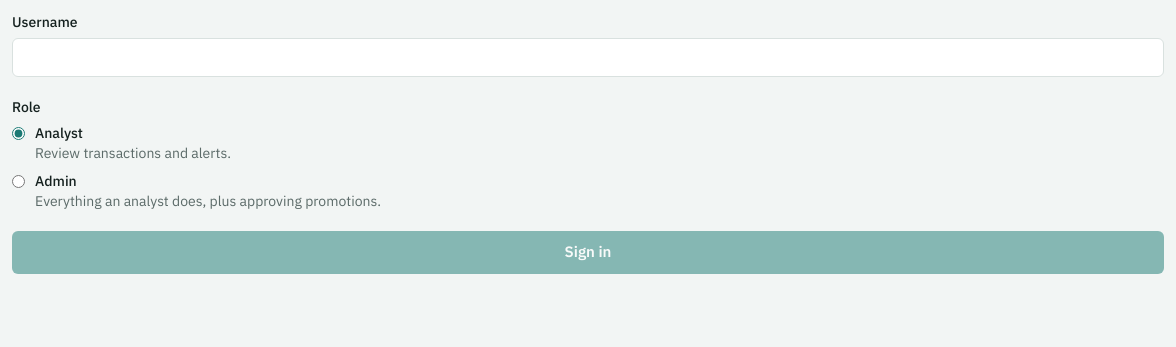
Test case: LoginForm › explains when the dev endpoint is disabled
Type "ana" into the field labelled "Username". click: (588, 58)
box: [12,38,1164,77]
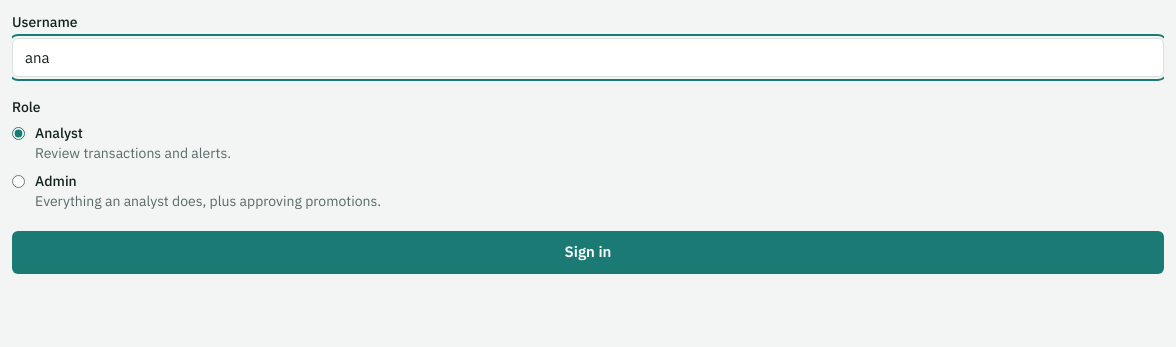
Click the button "Sign in". click: click(588, 253)
box: [12,231,1164,274]
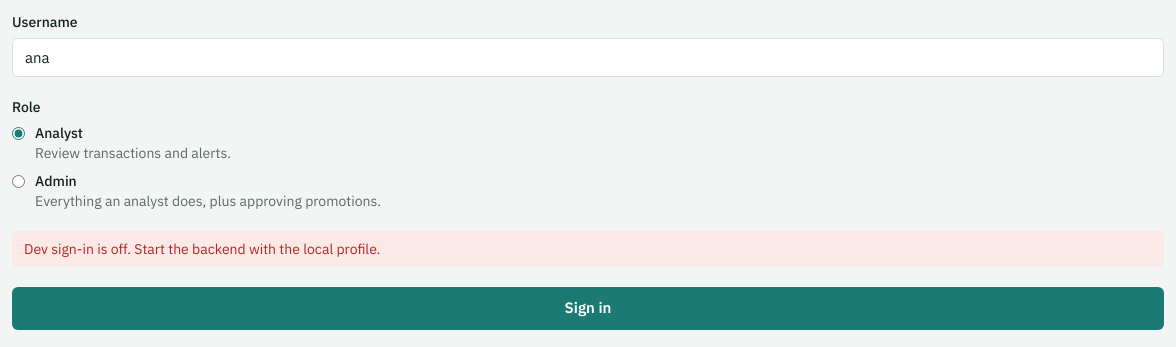
Check: the message shows "local profile", box [24,240,380,258]
